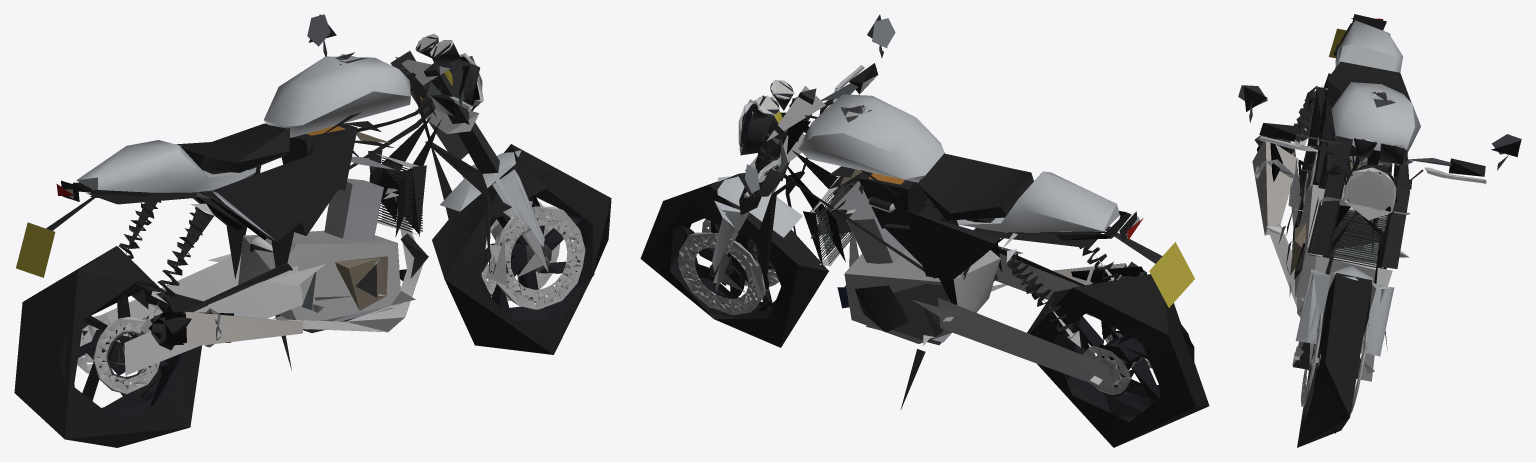
File: SM_Prop_house_bike_4_LOD1.glb
3 views of the same model, side by side, from view 1: azimuth 30°, elevation 25°; view 2: azimuth 150°, elevation 25°; view 3: azimuth 270°, elevation 25° (orthographic). The views are drawn at different scales.
Parts seen in each view (by area): view 1: SM_Prop_house_bike_4_LOD1; view 2: SM_Prop_house_bike_4_LOD1; view 3: SM_Prop_house_bike_4_LOD1.
Boxes of the visible parts, <box> form: SM_Prop_house_bike_4_LOD1: <box>14,14,611,447</box>; SM_Prop_house_bike_4_LOD1: <box>640,14,1209,447</box>; SM_Prop_house_bike_4_LOD1: <box>1238,14,1521,447</box>.
Bounding box in the file's own units: 2.08 × 1.17 × 0.9383.
